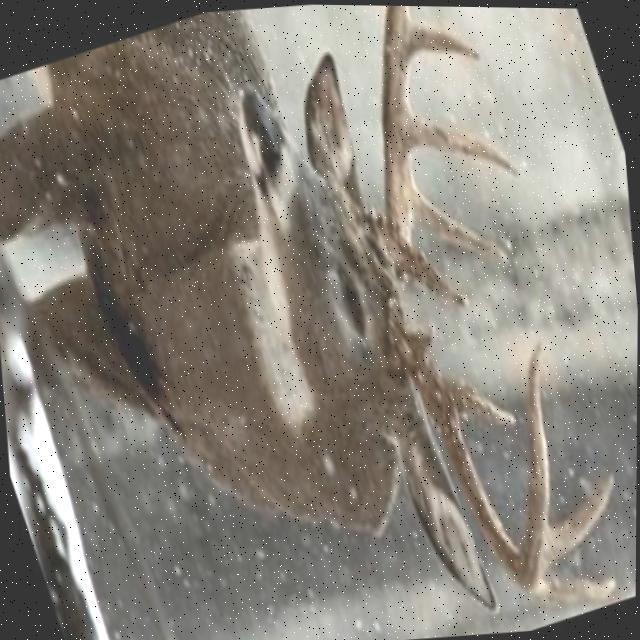L-F: (370, 4, 412, 287)
L-G1: (405, 242, 471, 309)
L-G2: (412, 181, 515, 272)
L-G3: (410, 103, 521, 178)
L-G4: (409, 17, 482, 62)
R-F: (386, 292, 552, 593)
R-G1: (411, 316, 437, 352)
R-G2: (434, 368, 519, 429)
R-G3: (533, 570, 623, 610)
R-G4: (548, 469, 618, 569)
